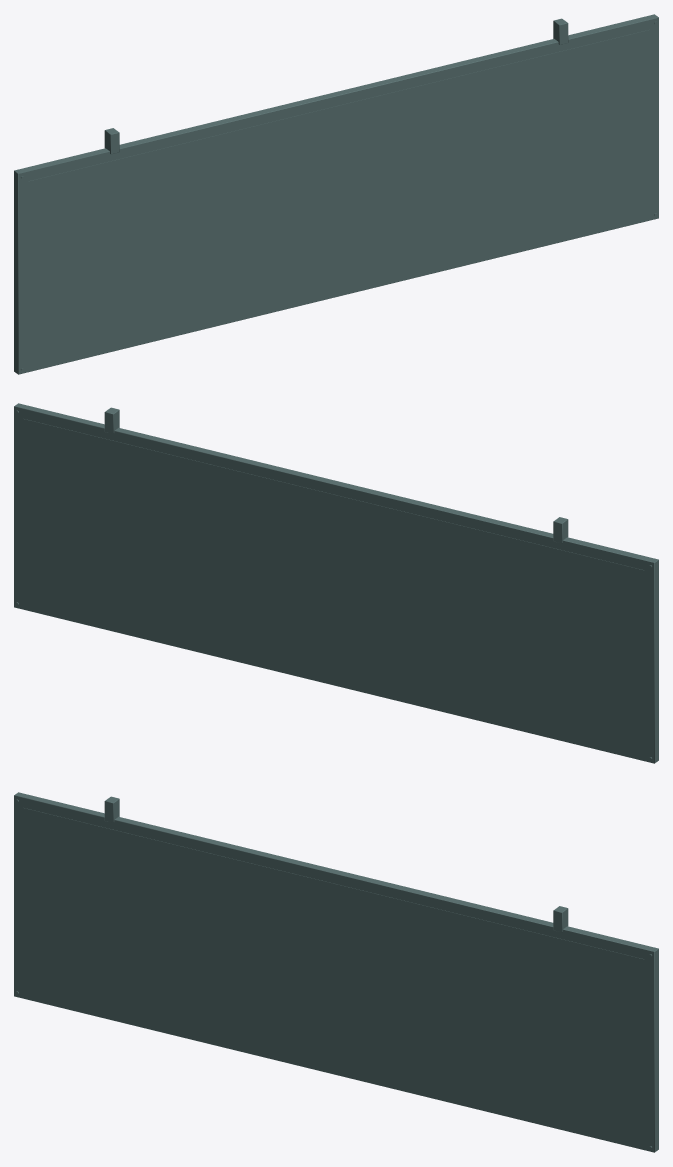
File: NAV-02_Orientacion.fbx
3 renders of one model, top to bottom at view 1: azimuth 30°, elevation 25°; view 2: azimuth 150°, elevation 25°; view 3: azimuth 330°, elevation 25°, orthographic.
Visible parts, largest first — view 1: GEO-NAV-02_Orientacion; view 2: GEO-NAV-02_Orientacion; view 3: GEO-NAV-02_Orientacion.
Part boxes in pixels (<box>): GEO-NAV-02_Orientacion: <box>14,14,658,374</box>; GEO-NAV-02_Orientacion: <box>14,403,658,763</box>; GEO-NAV-02_Orientacion: <box>14,792,658,1152</box>.
Size of the model in its own units: 2 by 0.652 by 0.034.
